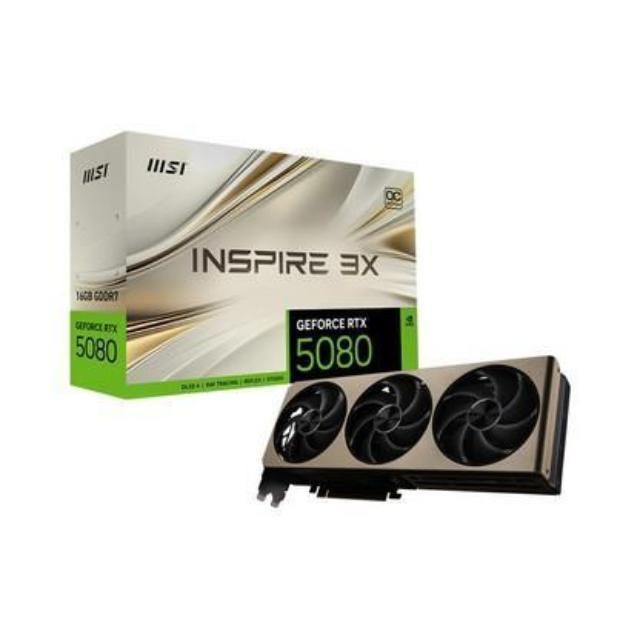GPU: (251, 353, 574, 507)
